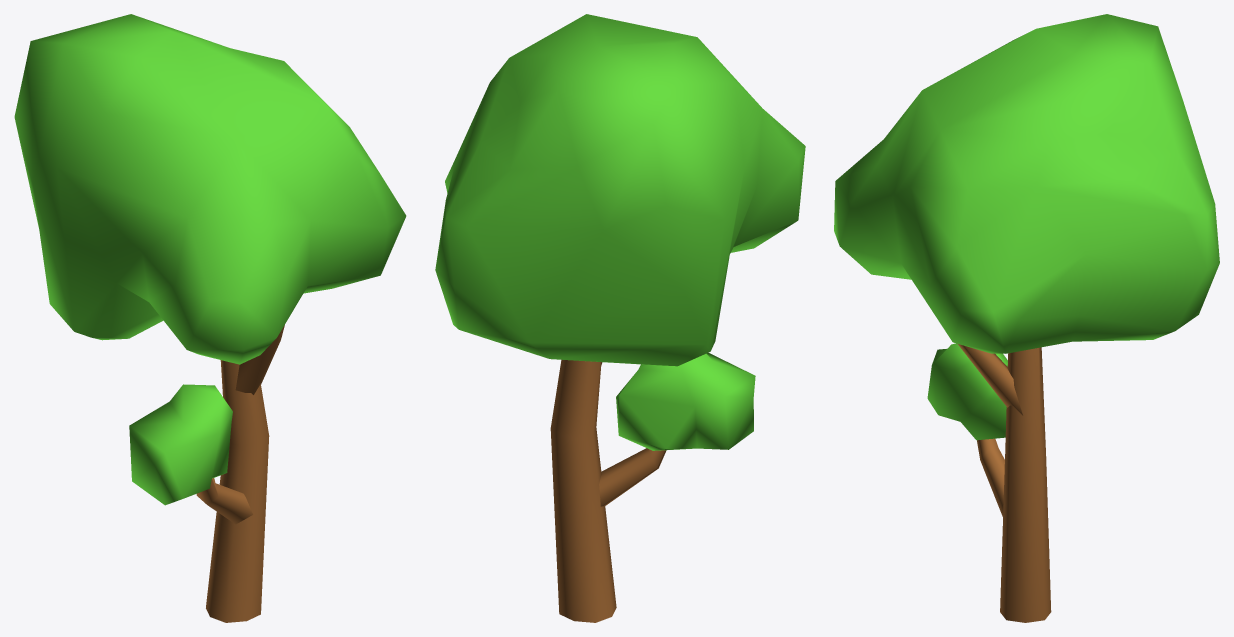
Rendered from SM_tree_1.fbx.
3 views of the same model, side by side, from view 1: azimuth 30°, elevation 25°; view 2: azimuth 150°, elevation 25°; view 3: azimuth 270°, elevation 25° (orthographic). The views are drawn at different scales.
Parts seen in each view (by area): view 1: SM_tree_1_LOD0; view 2: SM_tree_1_LOD0; view 3: SM_tree_1_LOD0.
Boxes of the visible parts, bbox=[...] form: SM_tree_1_LOD0: bbox=[14, 14, 406, 622]; SM_tree_1_LOD0: bbox=[435, 14, 805, 622]; SM_tree_1_LOD0: bbox=[834, 14, 1219, 622].
Size of what is drawn, in the model's own units: 649 by 1139 by 734.
1 material, 1 textured.
